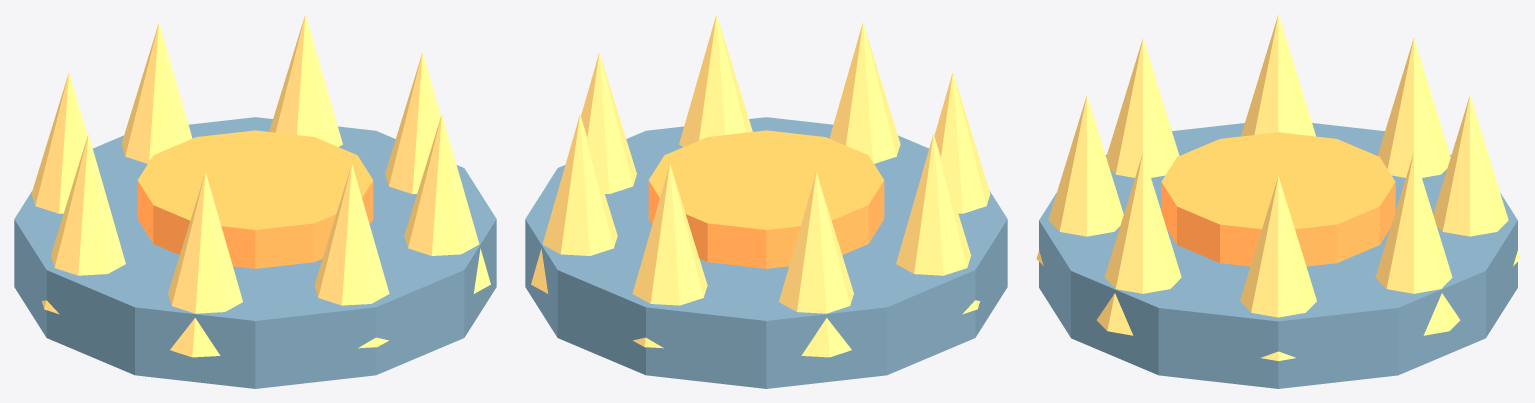
Rendered from trap.glb.
3 views of the same model, side by side, from view 1: azimuth 30°, elevation 25°; view 2: azimuth 150°, elevation 25°; view 3: azimuth 270°, elevation 25° (orthographic).
Visible parts, largest first — view 1: trap; view 2: trap; view 3: trap.
Part boxes in pixels (x1,y1,x2,y2): trap: (14, 14, 496, 388); trap: (525, 14, 1007, 388); trap: (1036, 14, 1520, 388).
Bounding box in the file's own units: 0.91 × 0.4 × 0.91.
